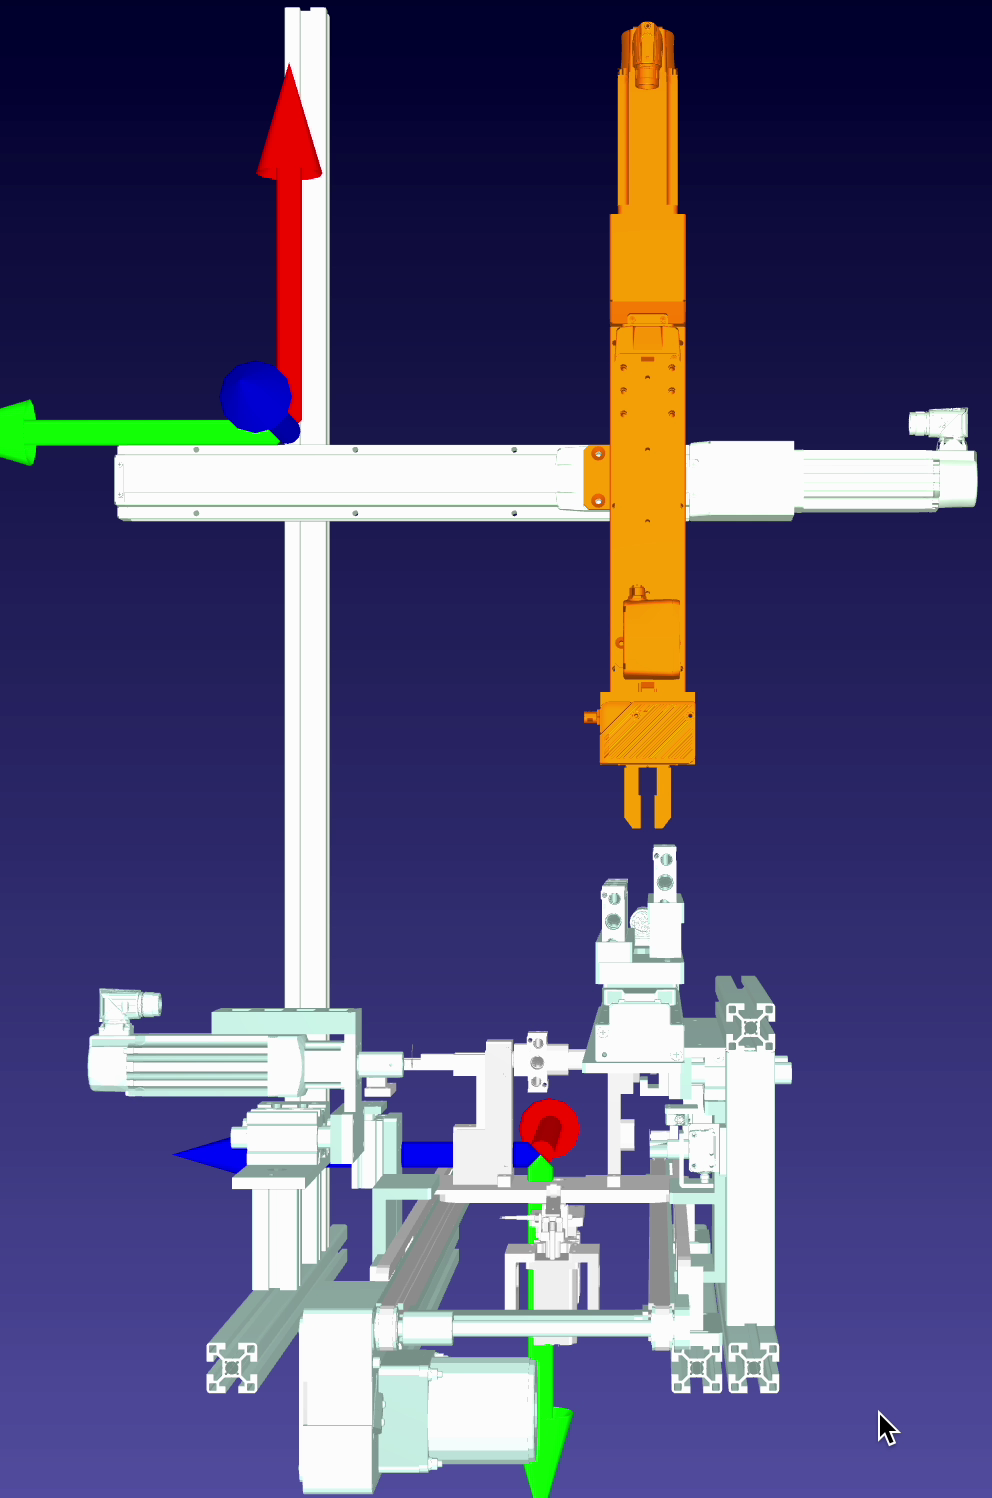Gripper: (579, 664, 704, 834)
